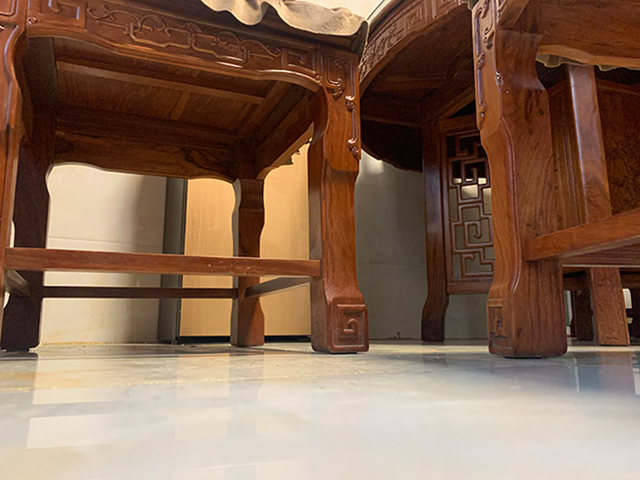stool: (1, 1, 369, 355)
